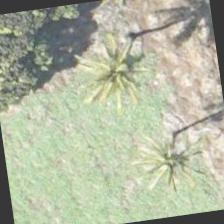Kelapa_Sawit: (64, 22, 166, 124), (116, 109, 218, 211)
